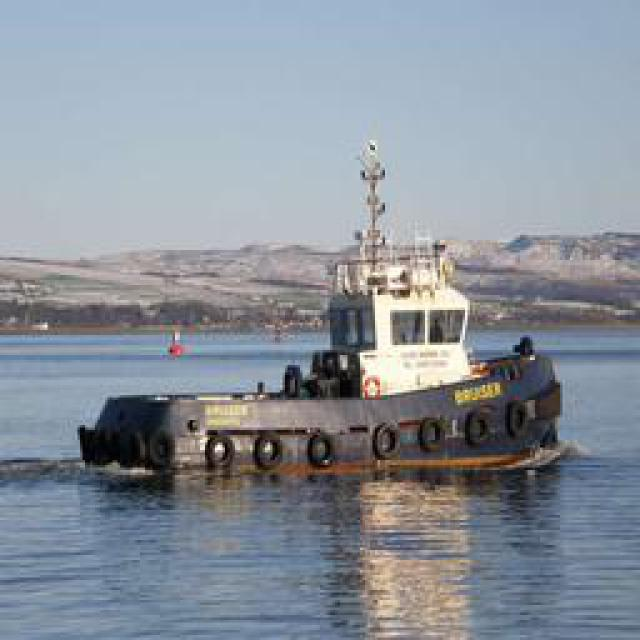Ship: (101, 112, 569, 472)
